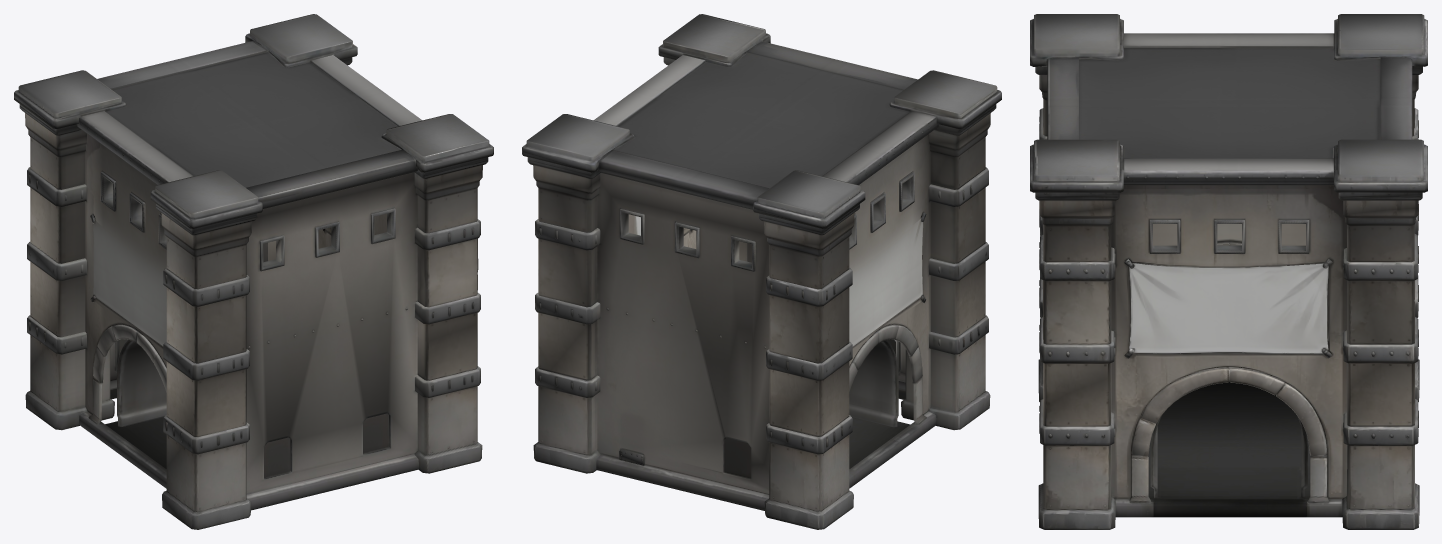
The picture shows the model from 3 angles, left to right: view 1: azimuth 30°, elevation 25°; view 2: azimuth 150°, elevation 25°; view 3: azimuth 270°, elevation 25°; orthographic projection. The views are drawn at different scales.
Parts seen in each view (by area): view 1: tripo_node_f15dce44-f535-4ff6-bec2-3bf321738842; view 2: tripo_node_f15dce44-f535-4ff6-bec2-3bf321738842; view 3: tripo_node_f15dce44-f535-4ff6-bec2-3bf321738842.
Part boxes in pixels (bbox=[...]): tripo_node_f15dce44-f535-4ff6-bec2-3bf321738842: bbox=[14, 14, 493, 529]; tripo_node_f15dce44-f535-4ff6-bec2-3bf321738842: bbox=[522, 14, 1001, 529]; tripo_node_f15dce44-f535-4ff6-bec2-3bf321738842: bbox=[1030, 14, 1427, 529].
Bounding box in the file's own units: 0.9829 × 0.9868 × 0.9995.
Materials: 1 (1 with a texture image).
